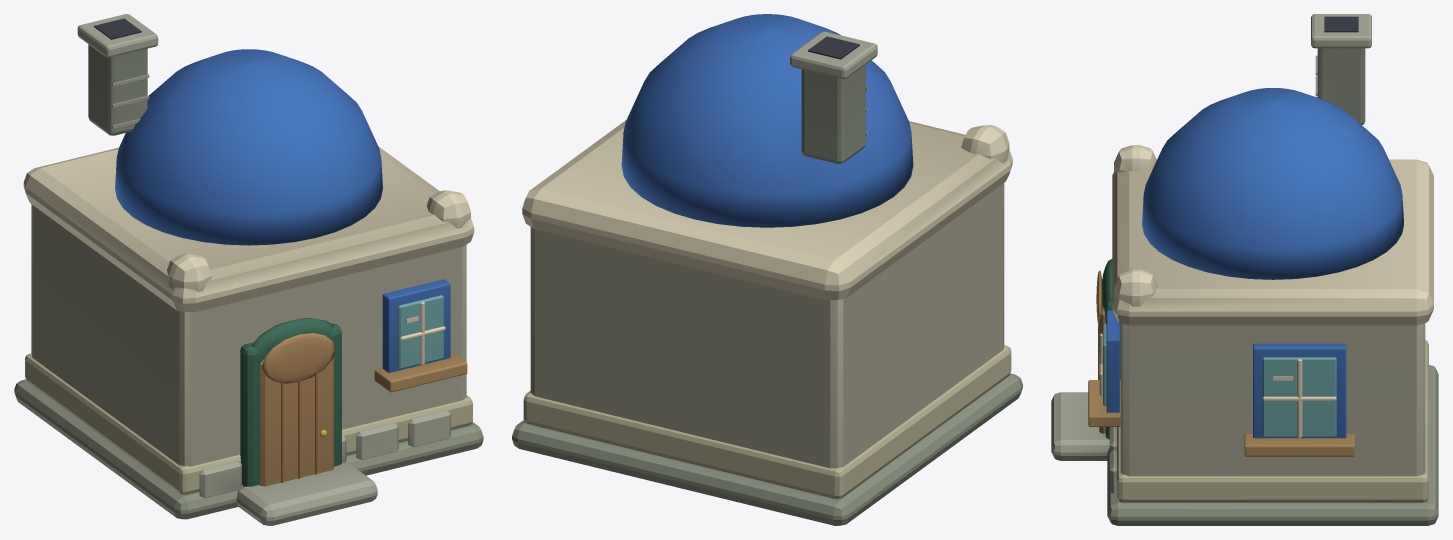
File: house_dome.glb
3 views of the same model, side by side, from view 1: azimuth 30°, elevation 25°; view 2: azimuth 150°, elevation 25°; view 3: azimuth 270°, elevation 25° (orthographic). The views are drawn at different scales.
Parts seen in each view (by area): view 1: house_dome; view 2: house_dome; view 3: house_dome.
Boxes of the visible parts, x1,y1,x2,y2 form: house_dome: (14, 14, 483, 525); house_dome: (512, 14, 1022, 525); house_dome: (1051, 14, 1438, 525).
Size of the model in its own units: 1.92 by 2.24 by 2.03.
